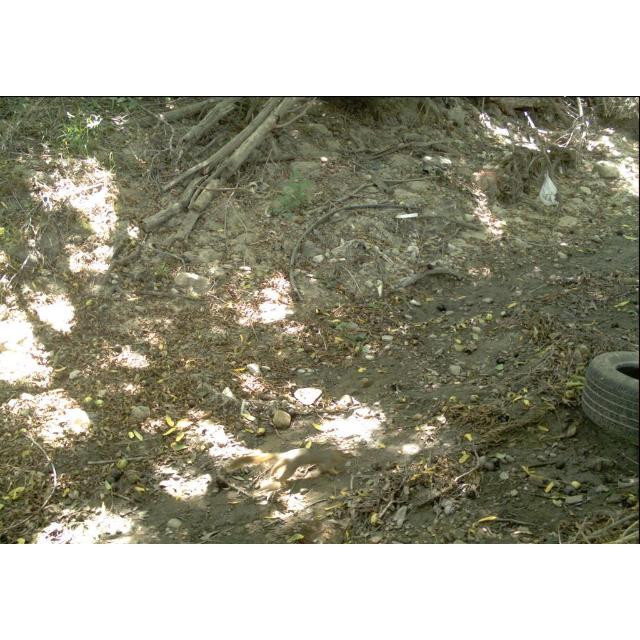animals: (226, 446, 350, 486)
